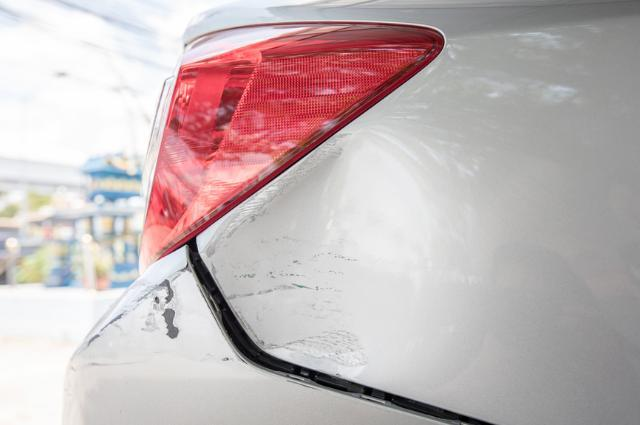Bumper: (6, 241, 196, 425)
Fender: (212, 92, 640, 370)
